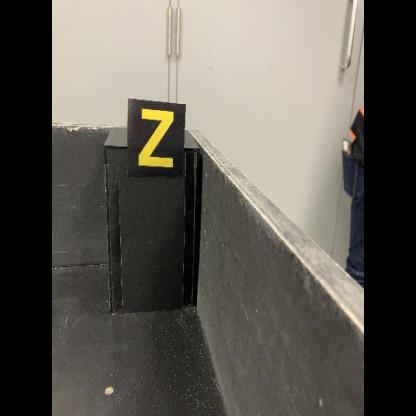z: (125, 97, 187, 180)
